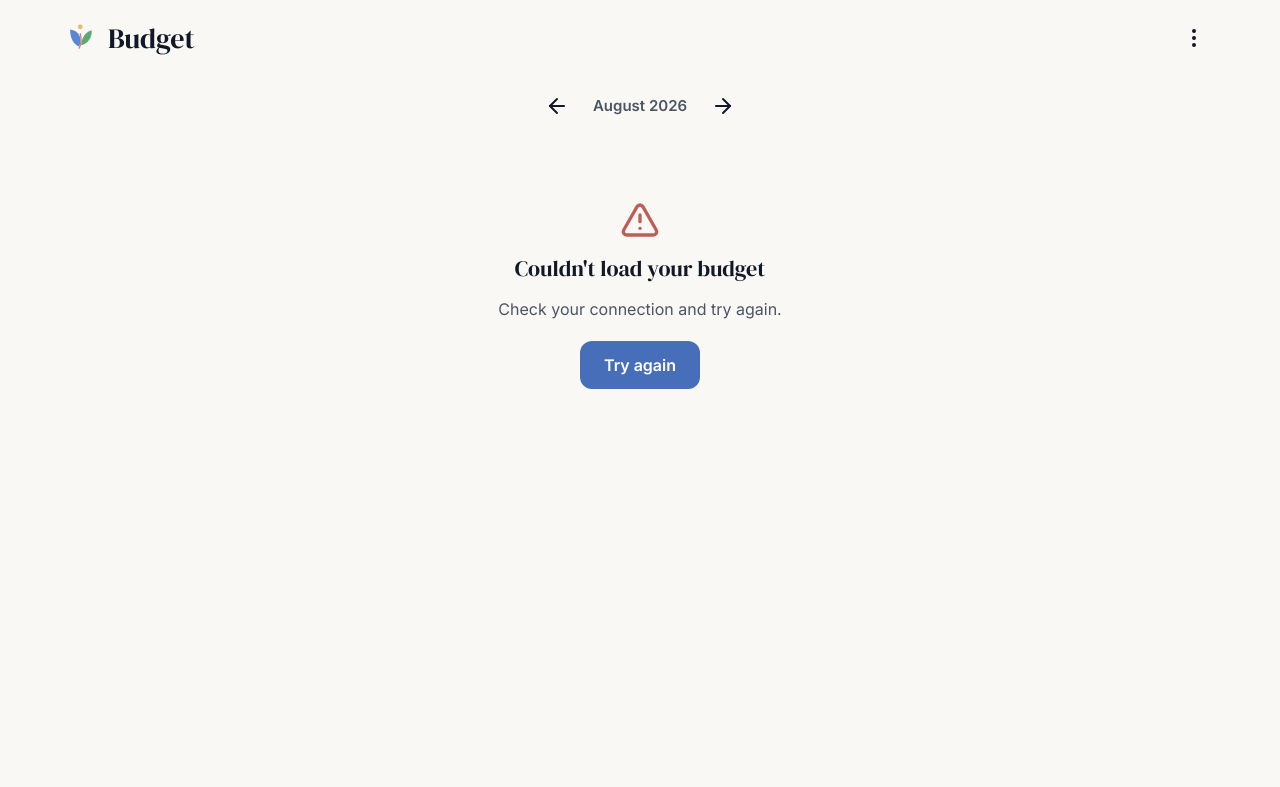
Test: qa-budget-page › QA-CC-27: a 500 then success on retry keeps the shell mounted and renders data
Expected: the heading "Couldn't load your budget" is shown, [515,252,765,285]
Expected: the heading "Budget" is shown, [108,19,195,57]
Click the button "Try again".
click(640, 365)  # box [580,341,700,389]
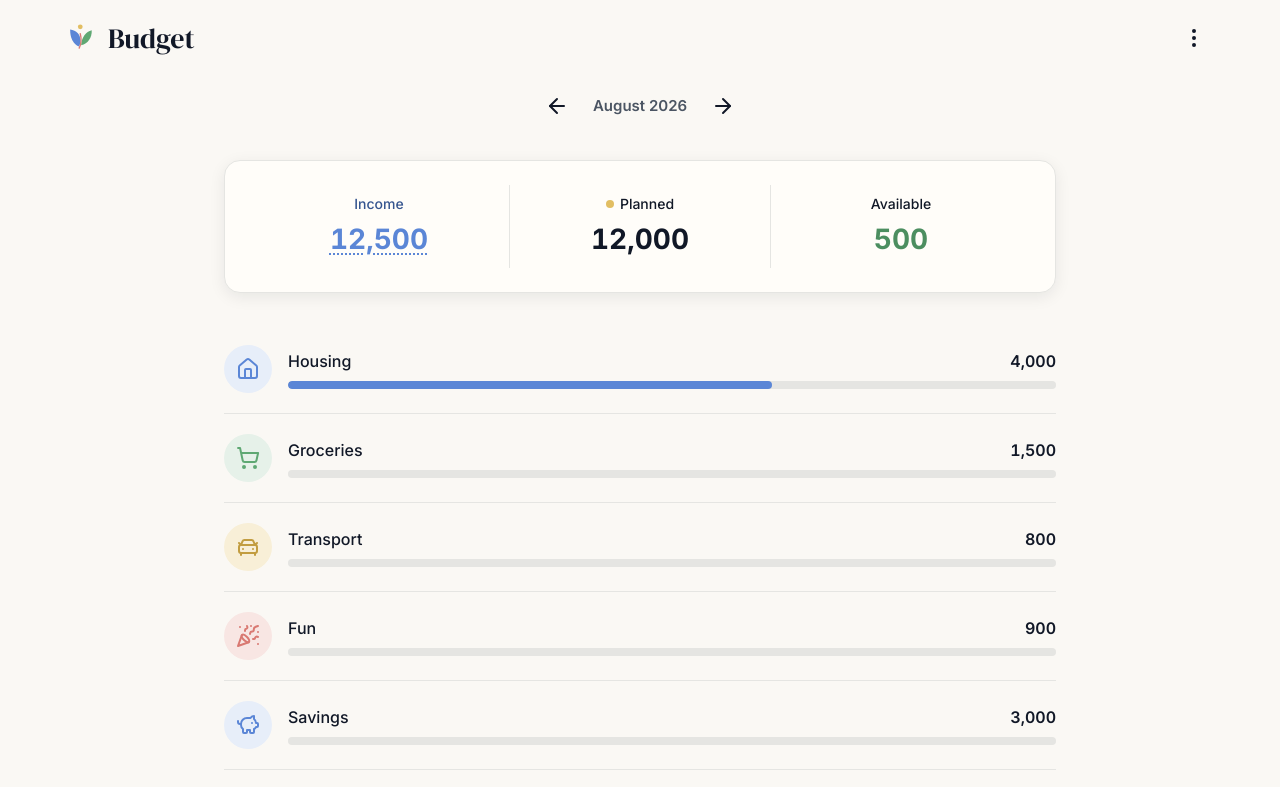
Expected: the heading "Budget" is shown, [108,19,195,57]
Result: the button "12,500" is shown at [322,214,436,264]
